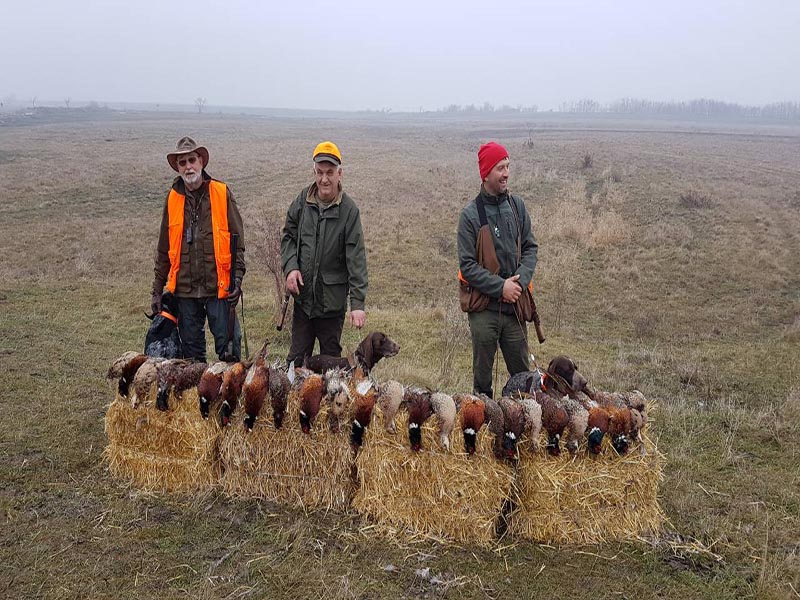cacciatore: (145, 135, 248, 358), (459, 139, 542, 399), (280, 141, 370, 364)
cane da caccia: (306, 332, 414, 378), (500, 356, 592, 402)
